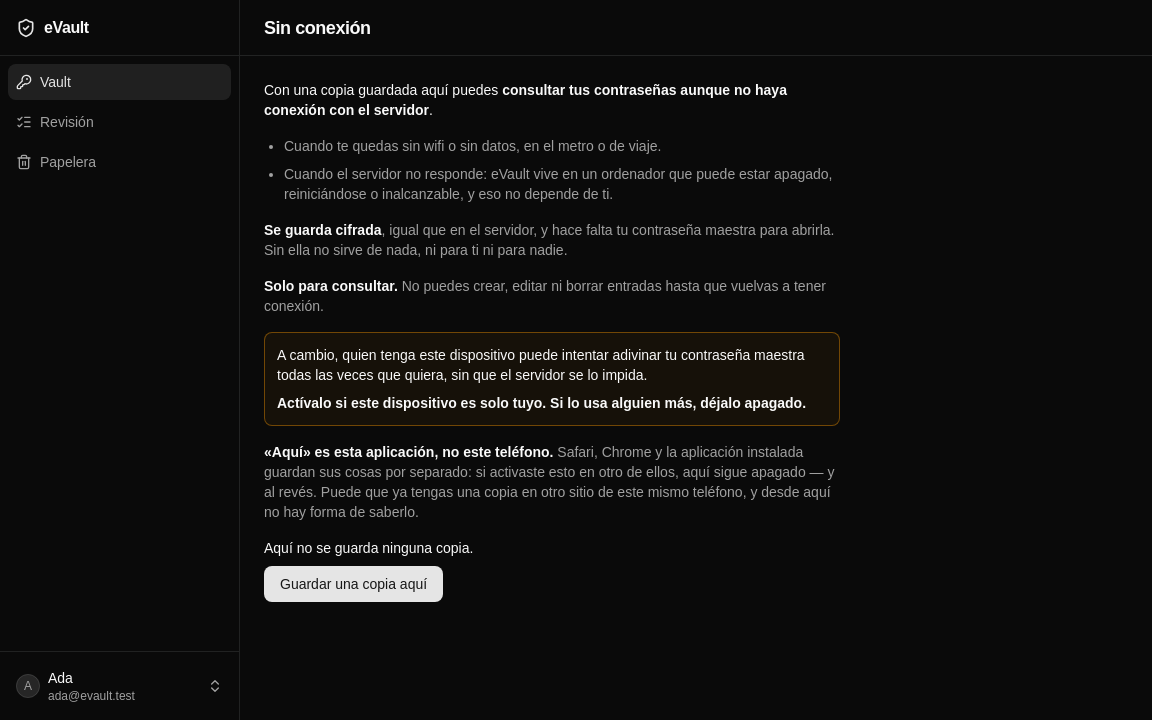
Test: turning it on › keeps the decision when the copy could not be made
Click the button "Guardar una copia aquí".
click(354, 584)  # box [264,566,443,602]
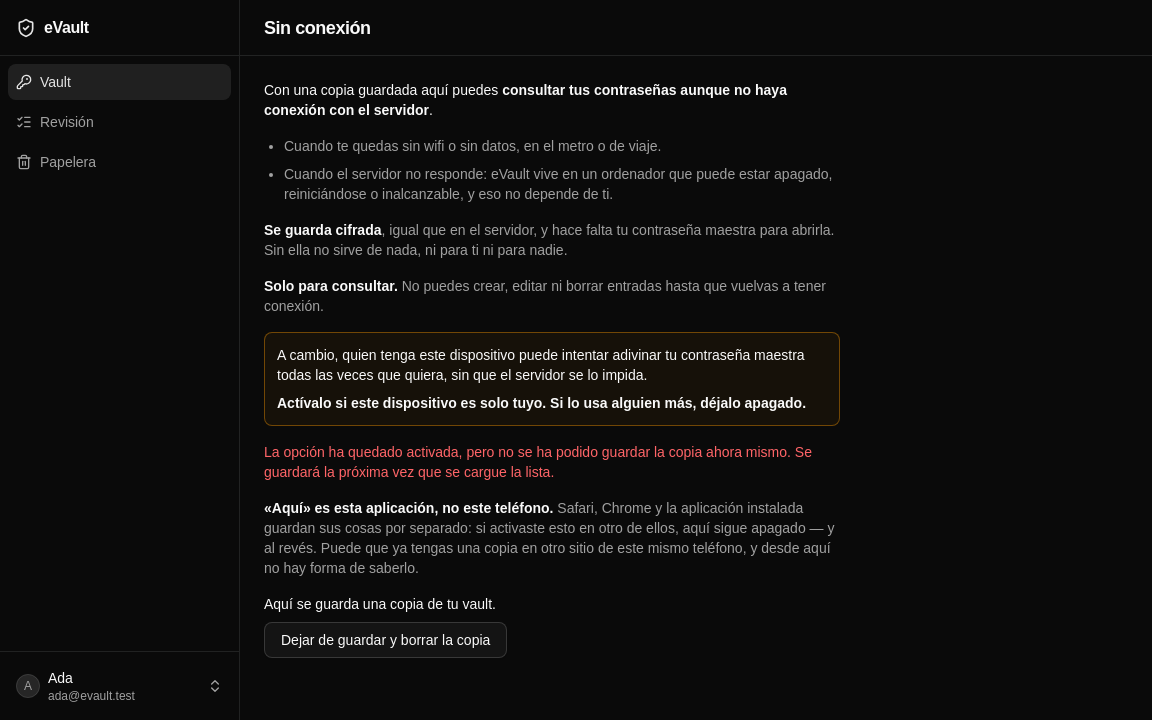
expect the message shows "no se ha podido guardar la copia": met, box [264,444,812,480]
